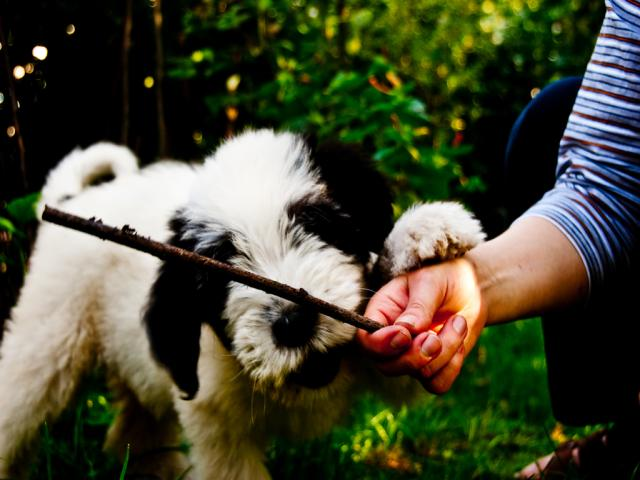Dog: (0, 128, 485, 480)
